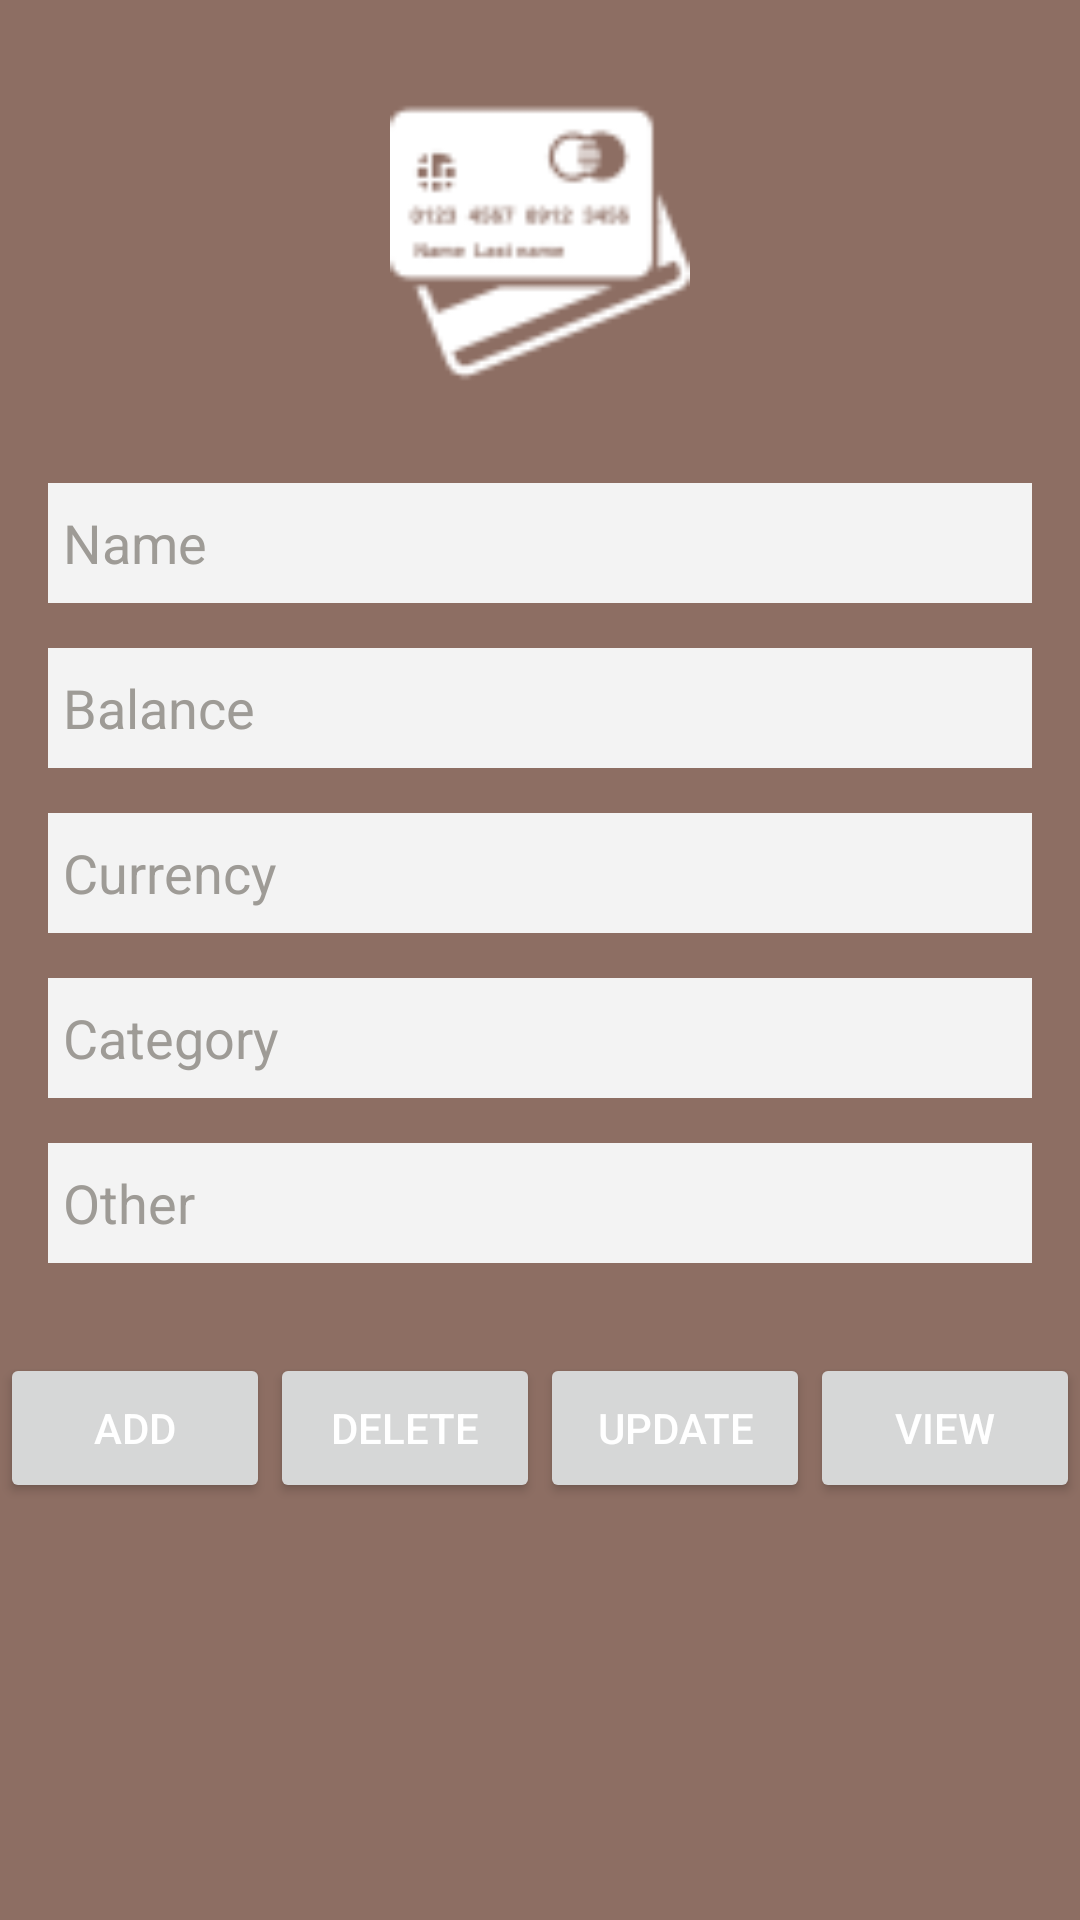

Point at icon controls on the screen. Image size 1080w x 1920h, points as [x,y].
commerce: [540,242]
